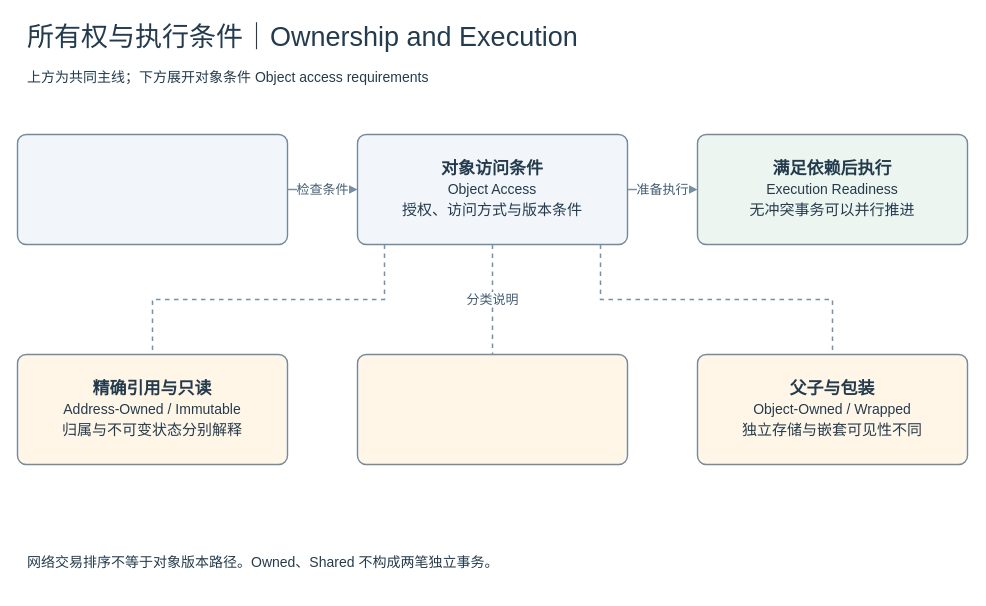
Some shapes in this 986 by 606 pixel diagram are drawn without their labels. Each missing label, with the centre of its shape:
"共同网络排序 Network Sequencing 所有事务经过共同共识排序" belongs at (x=152, y=189).
"共识对象版本 Shared / Party 共享与单地址权限不同" belongs at (x=492, y=409).
